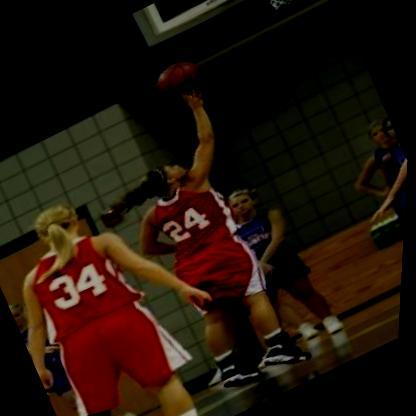basketball: (148, 49, 211, 106)
